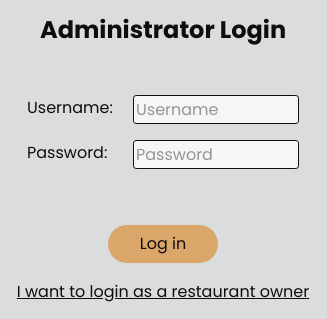
Test: Test administrator login form › Valid credentials result in success message
The image size is (327, 319).
Type "testUsername" into the field labelled "Username:" at point(216, 110), box left=133, top=95, right=299, bottom=124
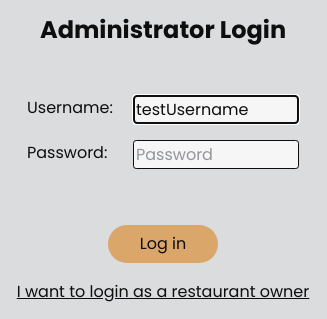
Type "testPassword" into the password field labelled "Password:" at point(216, 154), box left=133, top=140, right=299, bottom=169
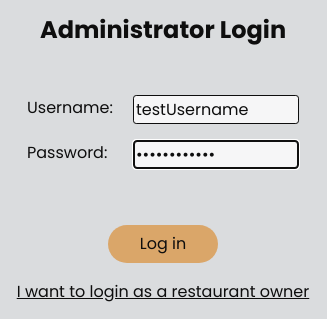
Click the button "Log in" at point(163, 244), box left=108, top=225, right=218, bottom=263
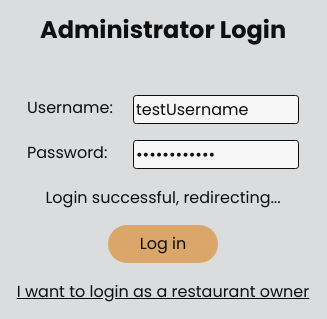
Check: the text "Login successful, redirecting..." is shown, box left=46, top=185, right=281, bottom=209
